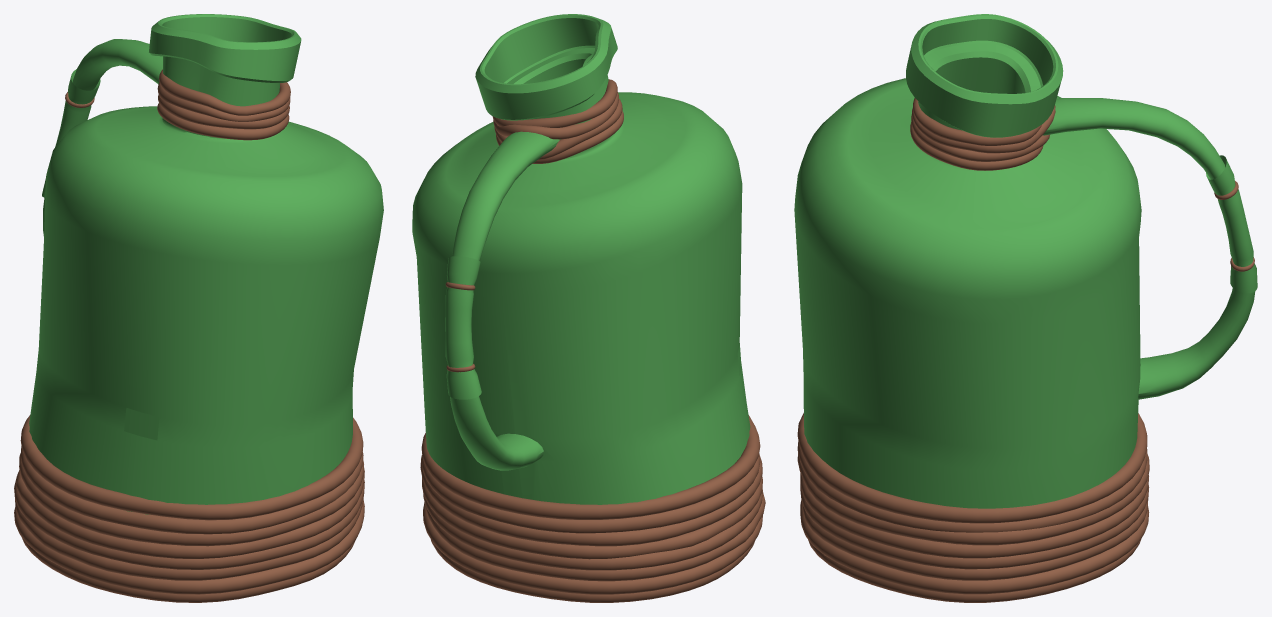
Rendered from Pichet_pirates 2.fbx.
The picture shows the model from 3 angles, left to right: view 1: azimuth 30°, elevation 25°; view 2: azimuth 150°, elevation 25°; view 3: azimuth 270°, elevation 25°; orthographic projection. The views are drawn at different scales.
Visible parts, largest first — view 1: polySurface1, pTorus4, pTorus5, pTorus10, pTorus8, pTorus6, pTorus7, pTorus9, pTorus11, pTorus18, pTorus17, pTorus20 (+1 smaller); view 2: polySurface1, pTorus4, pTorus10, pTorus5, pTorus8, pTorus6, pTorus7, pTorus9, pTorus11, pTorus18, pTorus19, pTorus20 (+1 smaller); view 3: polySurface1, pTorus4, pTorus10, pTorus8, pTorus6, pTorus5, pTorus7, pTorus9, pTorus11, pTorus18, pTorus17, pTorus20 (+1 smaller).
Boxes of the visible parts, left/top/right/bottom form: polySurface1: left=29, top=14, right=383, bottom=514; pTorus4: left=20, top=415, right=363, bottom=520; pTorus5: left=20, top=445, right=363, bottom=534; pTorus10: left=14, top=499, right=364, bottom=594; pTorus8: left=16, top=468, right=364, bottom=558; pTorus6: left=19, top=453, right=363, bottom=546; pTorus7: left=14, top=476, right=364, bottom=569; pTorus9: left=15, top=493, right=364, bottom=580; pTorus11: left=21, top=537, right=355, bottom=602; pTorus18: left=159, top=69, right=290, bottom=115; pTorus17: left=157, top=103, right=289, bottom=140; pTorus20: left=158, top=94, right=289, bottom=129; polySurface1: left=412, top=14, right=750, bottom=504; pTorus4: left=421, top=415, right=760, bottom=519; pTorus10: left=423, top=502, right=762, bottom=594; pTorus5: left=421, top=453, right=760, bottom=533; pTorus8: left=422, top=476, right=762, bottom=559; pTorus6: left=420, top=455, right=762, bottom=546; pTorus7: left=423, top=487, right=762, bottom=570; pTorus9: left=425, top=492, right=765, bottom=581; pTorus11: left=431, top=540, right=755, bottom=602; pTorus18: left=492, top=79, right=617, bottom=127; pTorus19: left=493, top=92, right=618, bottom=139; pTorus20: left=494, top=99, right=622, bottom=160; polySurface1: left=794, top=14, right=1257, bottom=508; pTorus4: left=797, top=413, right=1147, bottom=523; pTorus10: left=800, top=500, right=1149, bottom=594; pTorus8: left=800, top=473, right=1148, bottom=558; pTorus6: left=797, top=453, right=1149, bottom=545; pTorus5: left=797, top=441, right=1147, bottom=532; pTorus7: left=800, top=481, right=1149, bottom=569; pTorus9: left=803, top=499, right=1148, bottom=580; pTorus11: left=808, top=538, right=1141, bottom=602; pTorus18: left=913, top=98, right=1041, bottom=145; pTorus17: left=910, top=122, right=1043, bottom=170; pTorus20: left=911, top=113, right=1049, bottom=161.
Bounding box in the file's own units: 7.48 × 11.48 × 9.27.
